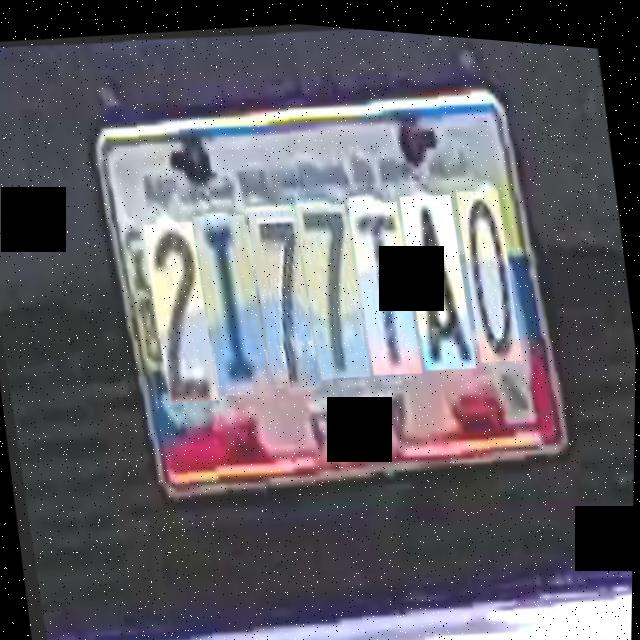2: (141, 211, 220, 400)
7: (245, 199, 321, 385), (293, 193, 370, 376)
A: (397, 180, 477, 365)
I: (191, 204, 271, 393)
O: (454, 177, 524, 357)
T: (346, 188, 422, 370)
